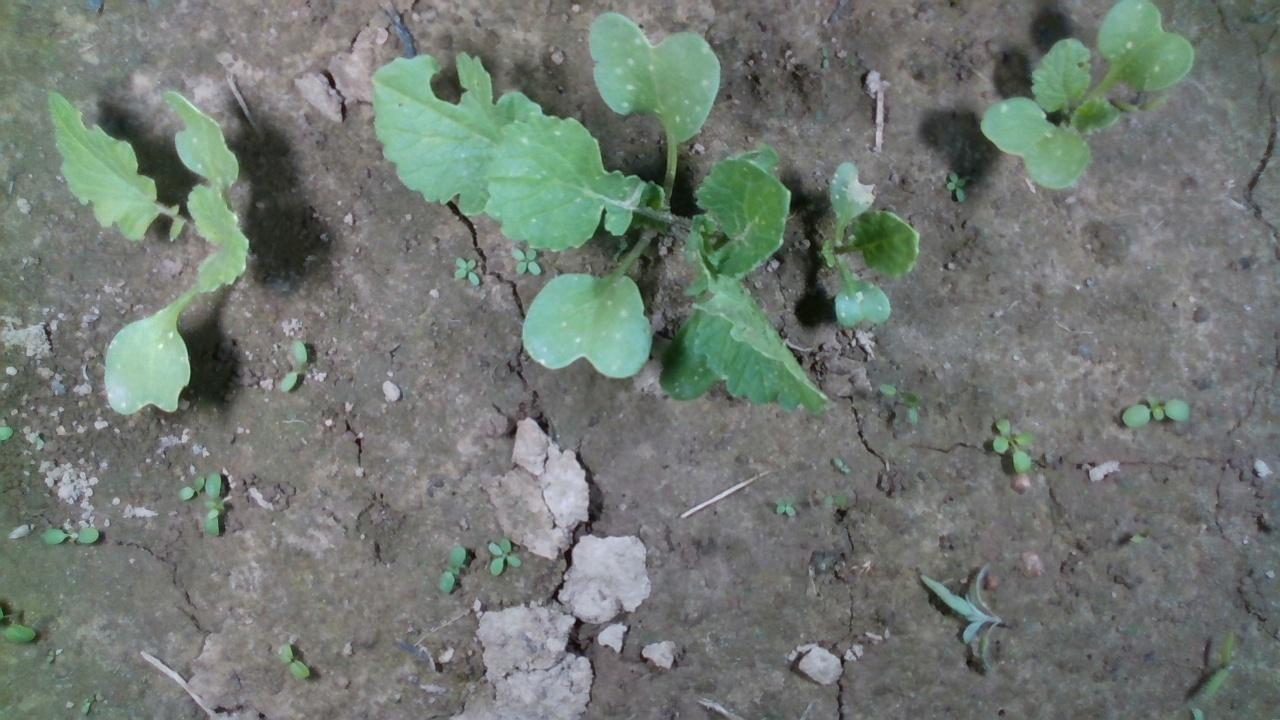weed: (990, 414, 1036, 473), (1119, 392, 1191, 428), (276, 337, 307, 393), (435, 543, 466, 594), (485, 536, 521, 575), (40, 524, 99, 546), (277, 641, 309, 678), (451, 253, 479, 287), (944, 168, 968, 204), (175, 474, 204, 500), (772, 493, 796, 519), (831, 453, 852, 474)
